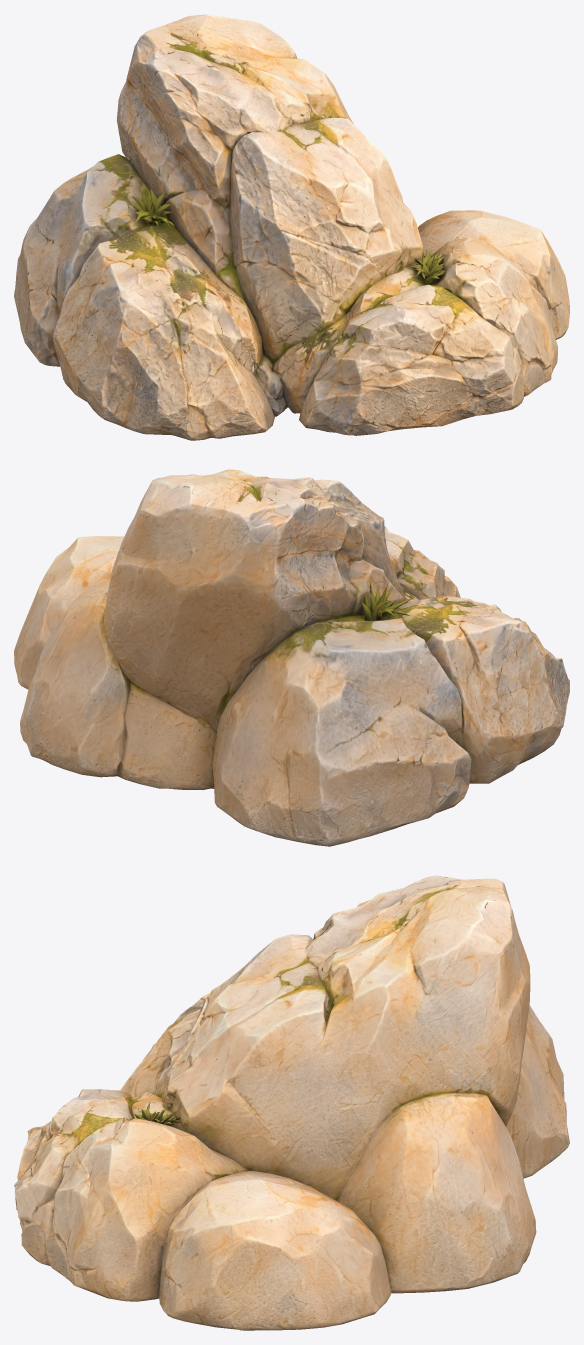
Rendered from base_basic_shaded.glb.
3 renders of one model, top to bottom at view 1: azimuth 30°, elevation 25°; view 2: azimuth 150°, elevation 25°; view 3: azimuth 270°, elevation 25°, orthographic. The views are drawn at different scales.
Visible parts, largest first — view 1: model; view 2: model; view 3: model.
Part boxes in pixels (x1,y1,x2,y2): model: [14, 14, 569, 440]; model: [14, 469, 569, 846]; model: [14, 875, 569, 1330].
Bounding box in the file's own units: 1.9 × 1.06 × 1.77.
1 material, 1 textured.
